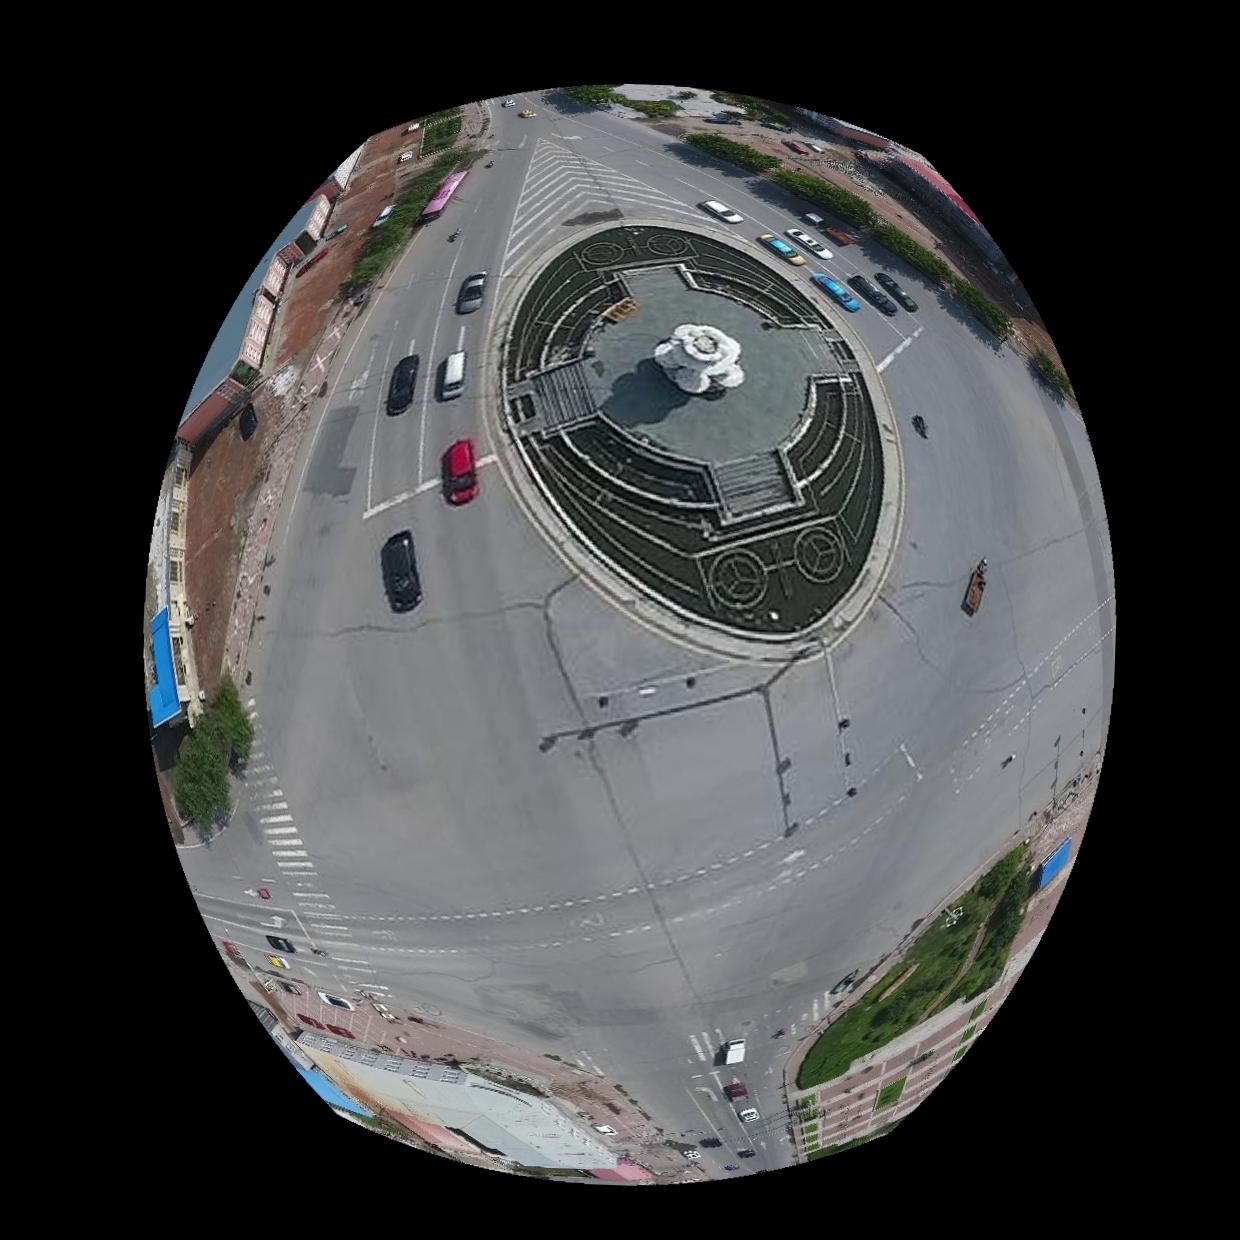building: (250, 1005, 654, 1184), (176, 143, 364, 442), (147, 439, 203, 726)
cars: (380, 528, 421, 611), (420, 168, 468, 220), (441, 439, 479, 504), (1033, 837, 1074, 893), (385, 352, 419, 414), (850, 272, 899, 314), (802, 209, 857, 242), (815, 272, 862, 309), (876, 270, 919, 310), (434, 349, 467, 399), (963, 557, 989, 615), (787, 226, 835, 257), (762, 232, 805, 262), (455, 272, 486, 312), (698, 196, 744, 222)
trees: (798, 841, 1035, 1090), (338, 143, 478, 295), (170, 676, 252, 838), (769, 166, 883, 227), (936, 276, 1022, 345), (867, 217, 954, 279), (685, 129, 782, 170), (1026, 346, 1082, 416), (420, 103, 462, 153), (1025, 286, 1040, 316)
